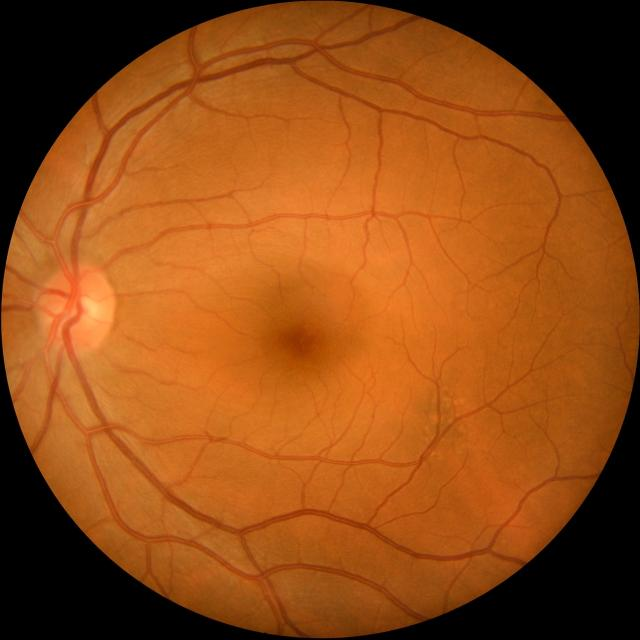OC: (68, 292, 101, 328)
OD: (37, 262, 114, 356)
